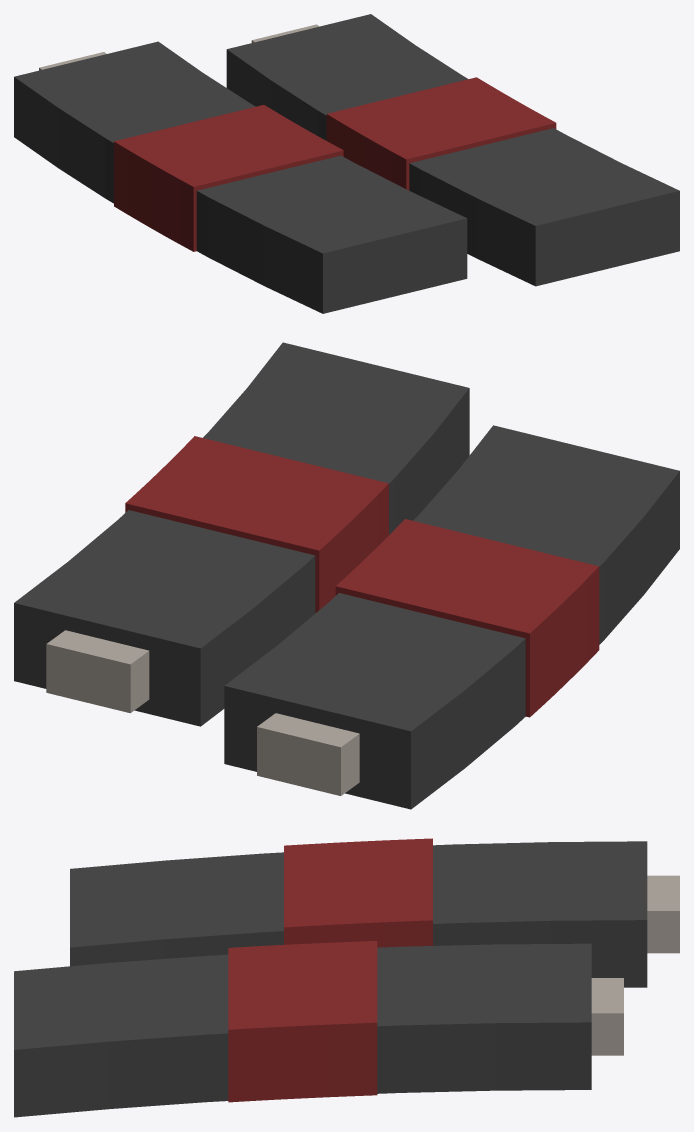
The model's file is ce_ammo_rifle_ap_b.obj.
3 views of the same model, one above another, from view 1: azimuth 30°, elevation 25°; view 2: azimuth 150°, elevation 25°; view 3: azimuth 270°, elevation 25° (orthographic). The views are drawn at different scales.
Visible parts, largest first — view 1: ce_ammo_rifle_ap_b_0, ce_ammo_rifle_ap_b_3, ce_ammo_rifle_ap_b_1, ce_ammo_rifle_ap_b_4; view 2: ce_ammo_rifle_ap_b_0, ce_ammo_rifle_ap_b_3, ce_ammo_rifle_ap_b_1, ce_ammo_rifle_ap_b_4, ce_ammo_rifle_ap_b_5, ce_ammo_rifle_ap_b_2; view 3: ce_ammo_rifle_ap_b_3, ce_ammo_rifle_ap_b_0, ce_ammo_rifle_ap_b_4, ce_ammo_rifle_ap_b_1, ce_ammo_rifle_ap_b_2, ce_ammo_rifle_ap_b_5.
Part boxes in pixels (bbox=[...]): ce_ammo_rifle_ap_b_0: bbox=[14, 41, 467, 313]; ce_ammo_rifle_ap_b_3: bbox=[226, 14, 679, 286]; ce_ammo_rifle_ap_b_1: bbox=[114, 105, 343, 251]; ce_ammo_rifle_ap_b_4: bbox=[326, 77, 556, 190]; ce_ammo_rifle_ap_b_0: bbox=[224, 425, 679, 809]; ce_ammo_rifle_ap_b_3: bbox=[14, 342, 469, 726]; ce_ammo_rifle_ap_b_1: bbox=[335, 519, 599, 717]; ce_ammo_rifle_ap_b_4: bbox=[125, 436, 388, 613]; ce_ammo_rifle_ap_b_5: bbox=[46, 630, 149, 713]; ce_ammo_rifle_ap_b_2: bbox=[257, 713, 359, 795]; ce_ammo_rifle_ap_b_3: bbox=[14, 943, 591, 1117]; ce_ammo_rifle_ap_b_0: bbox=[70, 841, 647, 987]; ce_ammo_rifle_ap_b_4: bbox=[228, 941, 377, 1102]; ce_ammo_rifle_ap_b_1: bbox=[284, 838, 432, 947]; ce_ammo_rifle_ap_b_2: bbox=[647, 875, 679, 953]; ce_ammo_rifle_ap_b_5: bbox=[591, 978, 623, 1055].
Bounding box in the file's own units: 0.53 × 0.086 × 0.715.
